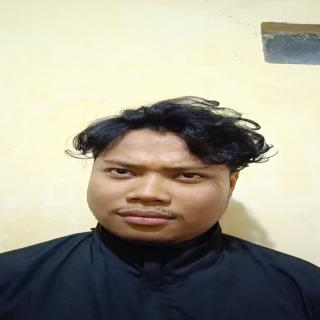Marah: (91, 124, 232, 248)
